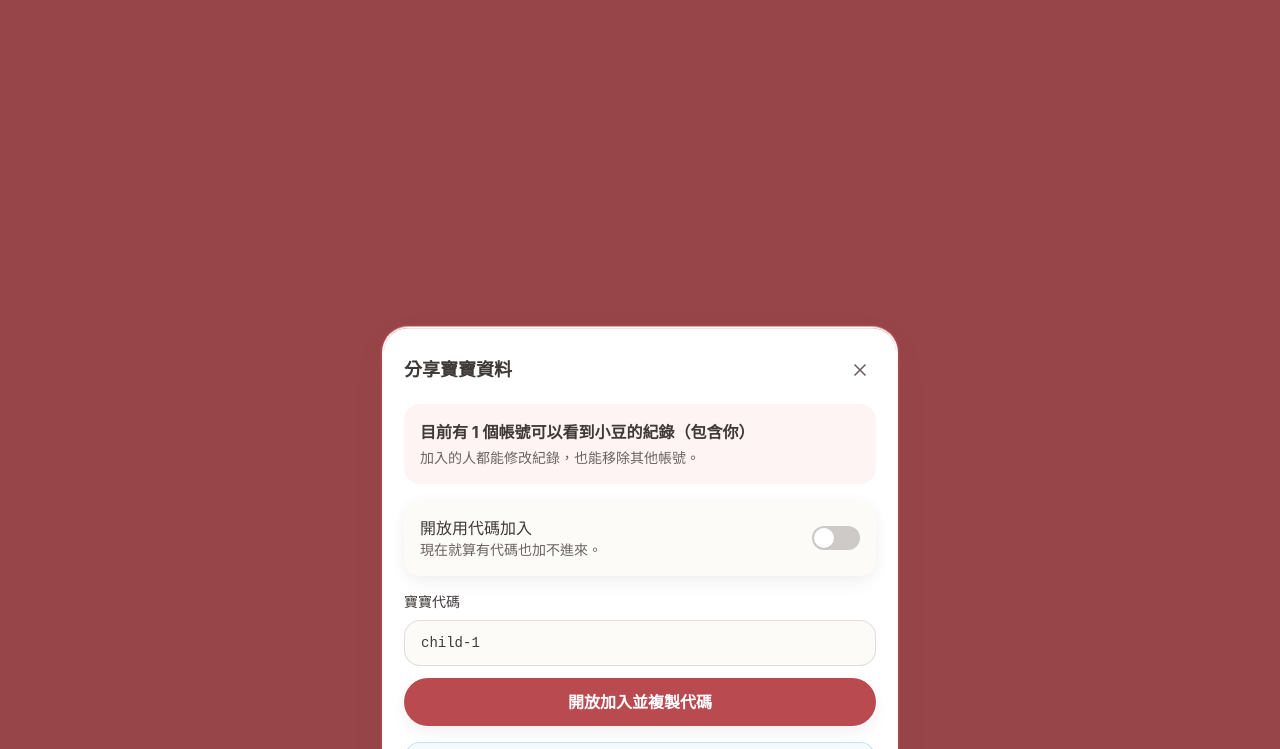
it: 複製代碼 › 關著的時候先開放加入再複製，家長手上不會有加不進來的代碼
Click the button "開放加入並複製代碼": click(640, 702) [404, 678, 876, 726]
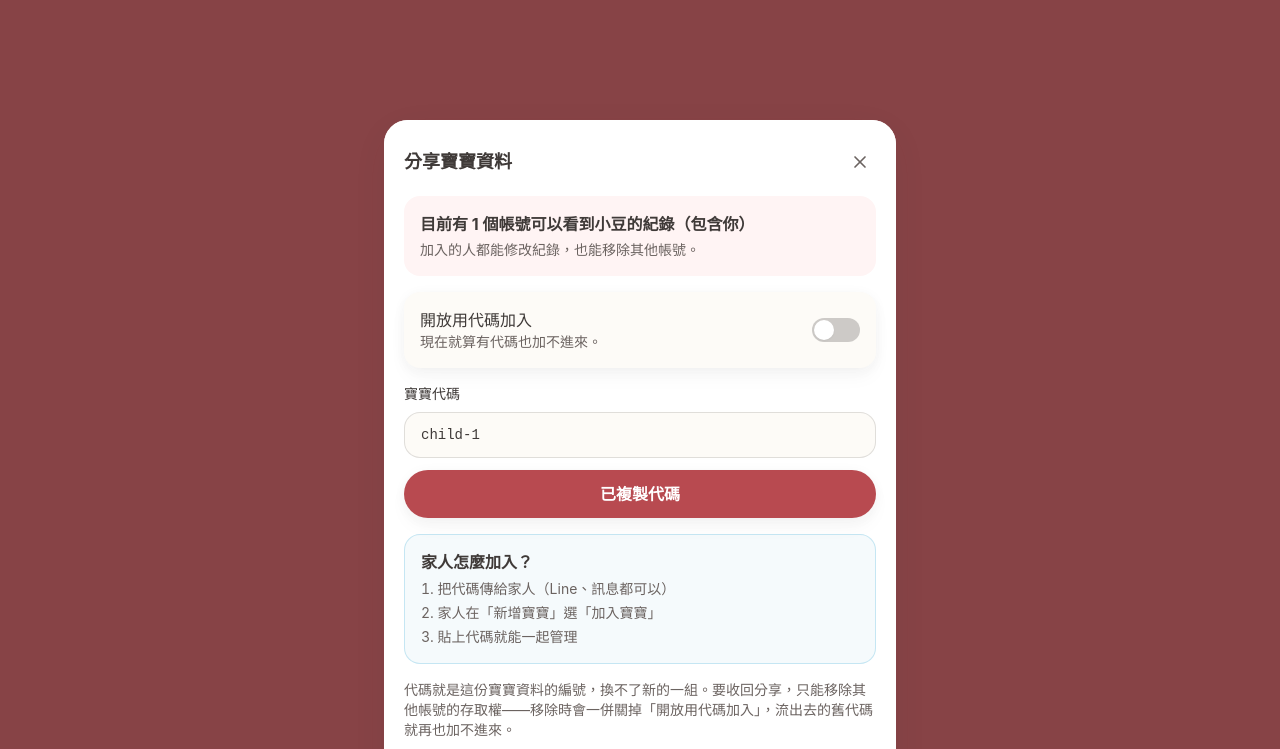
expect the button "已複製代碼" is shown: met, box [404, 470, 876, 518]
